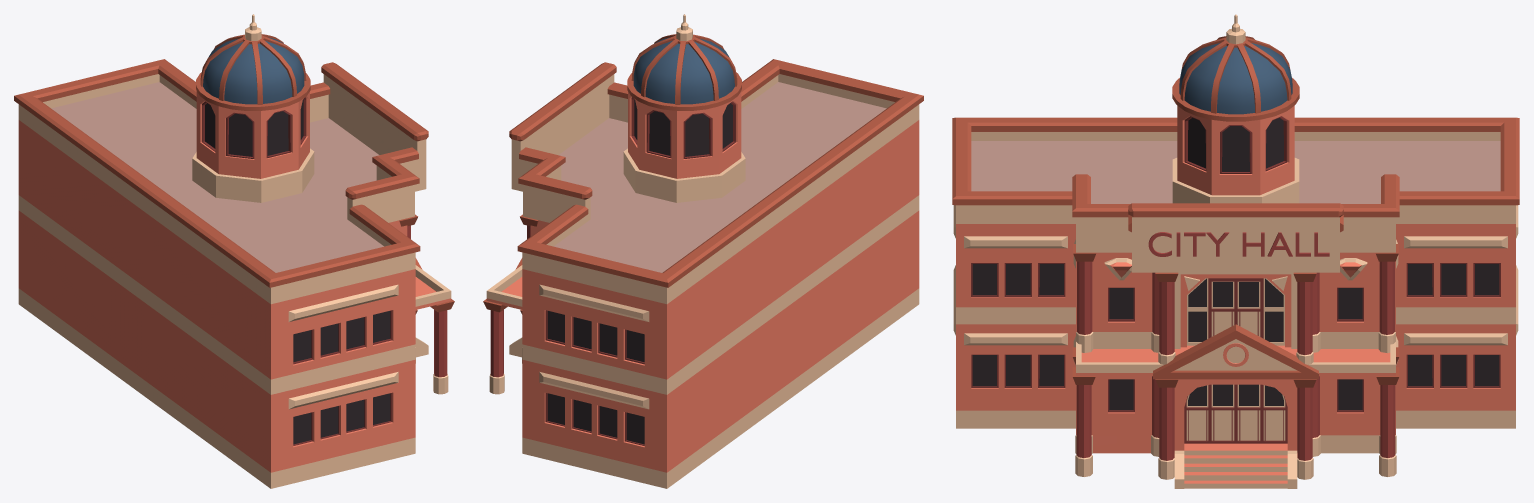
Rendered from SM_Building_City Hall.fbx.
3 views of the same model, side by side, from view 1: azimuth 30°, elevation 25°; view 2: azimuth 150°, elevation 25°; view 3: azimuth 270°, elevation 25° (orthographic). The views are drawn at different scales.
Visible parts, largest first — view 1: PublicBuilding_CityHall; view 2: PublicBuilding_CityHall; view 3: PublicBuilding_CityHall.
Part boxes in pixels (box(x1,y1,x2,y2)): PublicBuilding_CityHall: box(14, 14, 454, 488); PublicBuilding_CityHall: box(483, 14, 923, 488); PublicBuilding_CityHall: box(952, 14, 1519, 488).
Bounding box in the file's own units: 541 × 711 × 925.
1 material, 1 textured.
